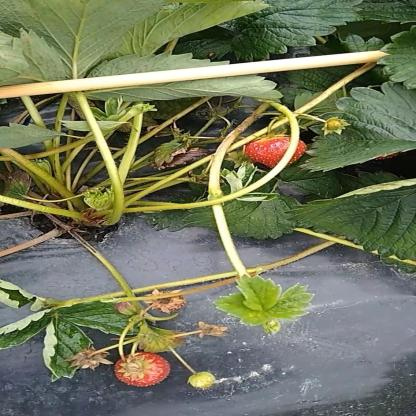ripe: (246, 135, 308, 171), (112, 353, 171, 387)
unripe: (186, 372, 219, 389)
